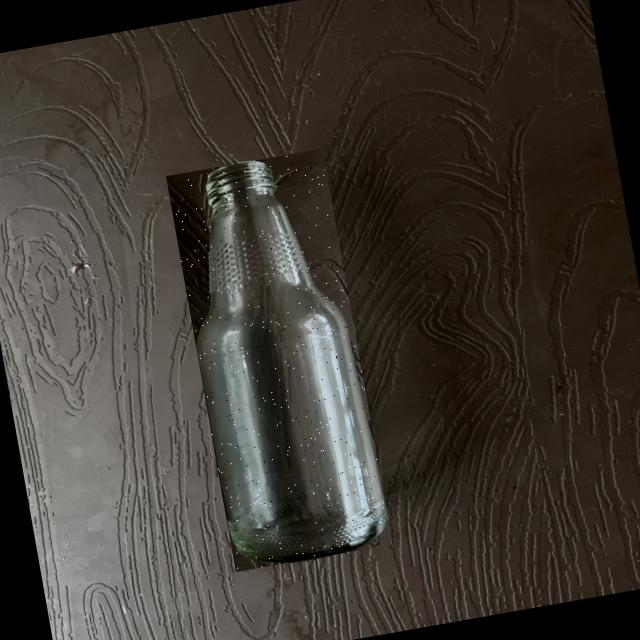Glass_Bottle: (197, 161, 386, 561)
